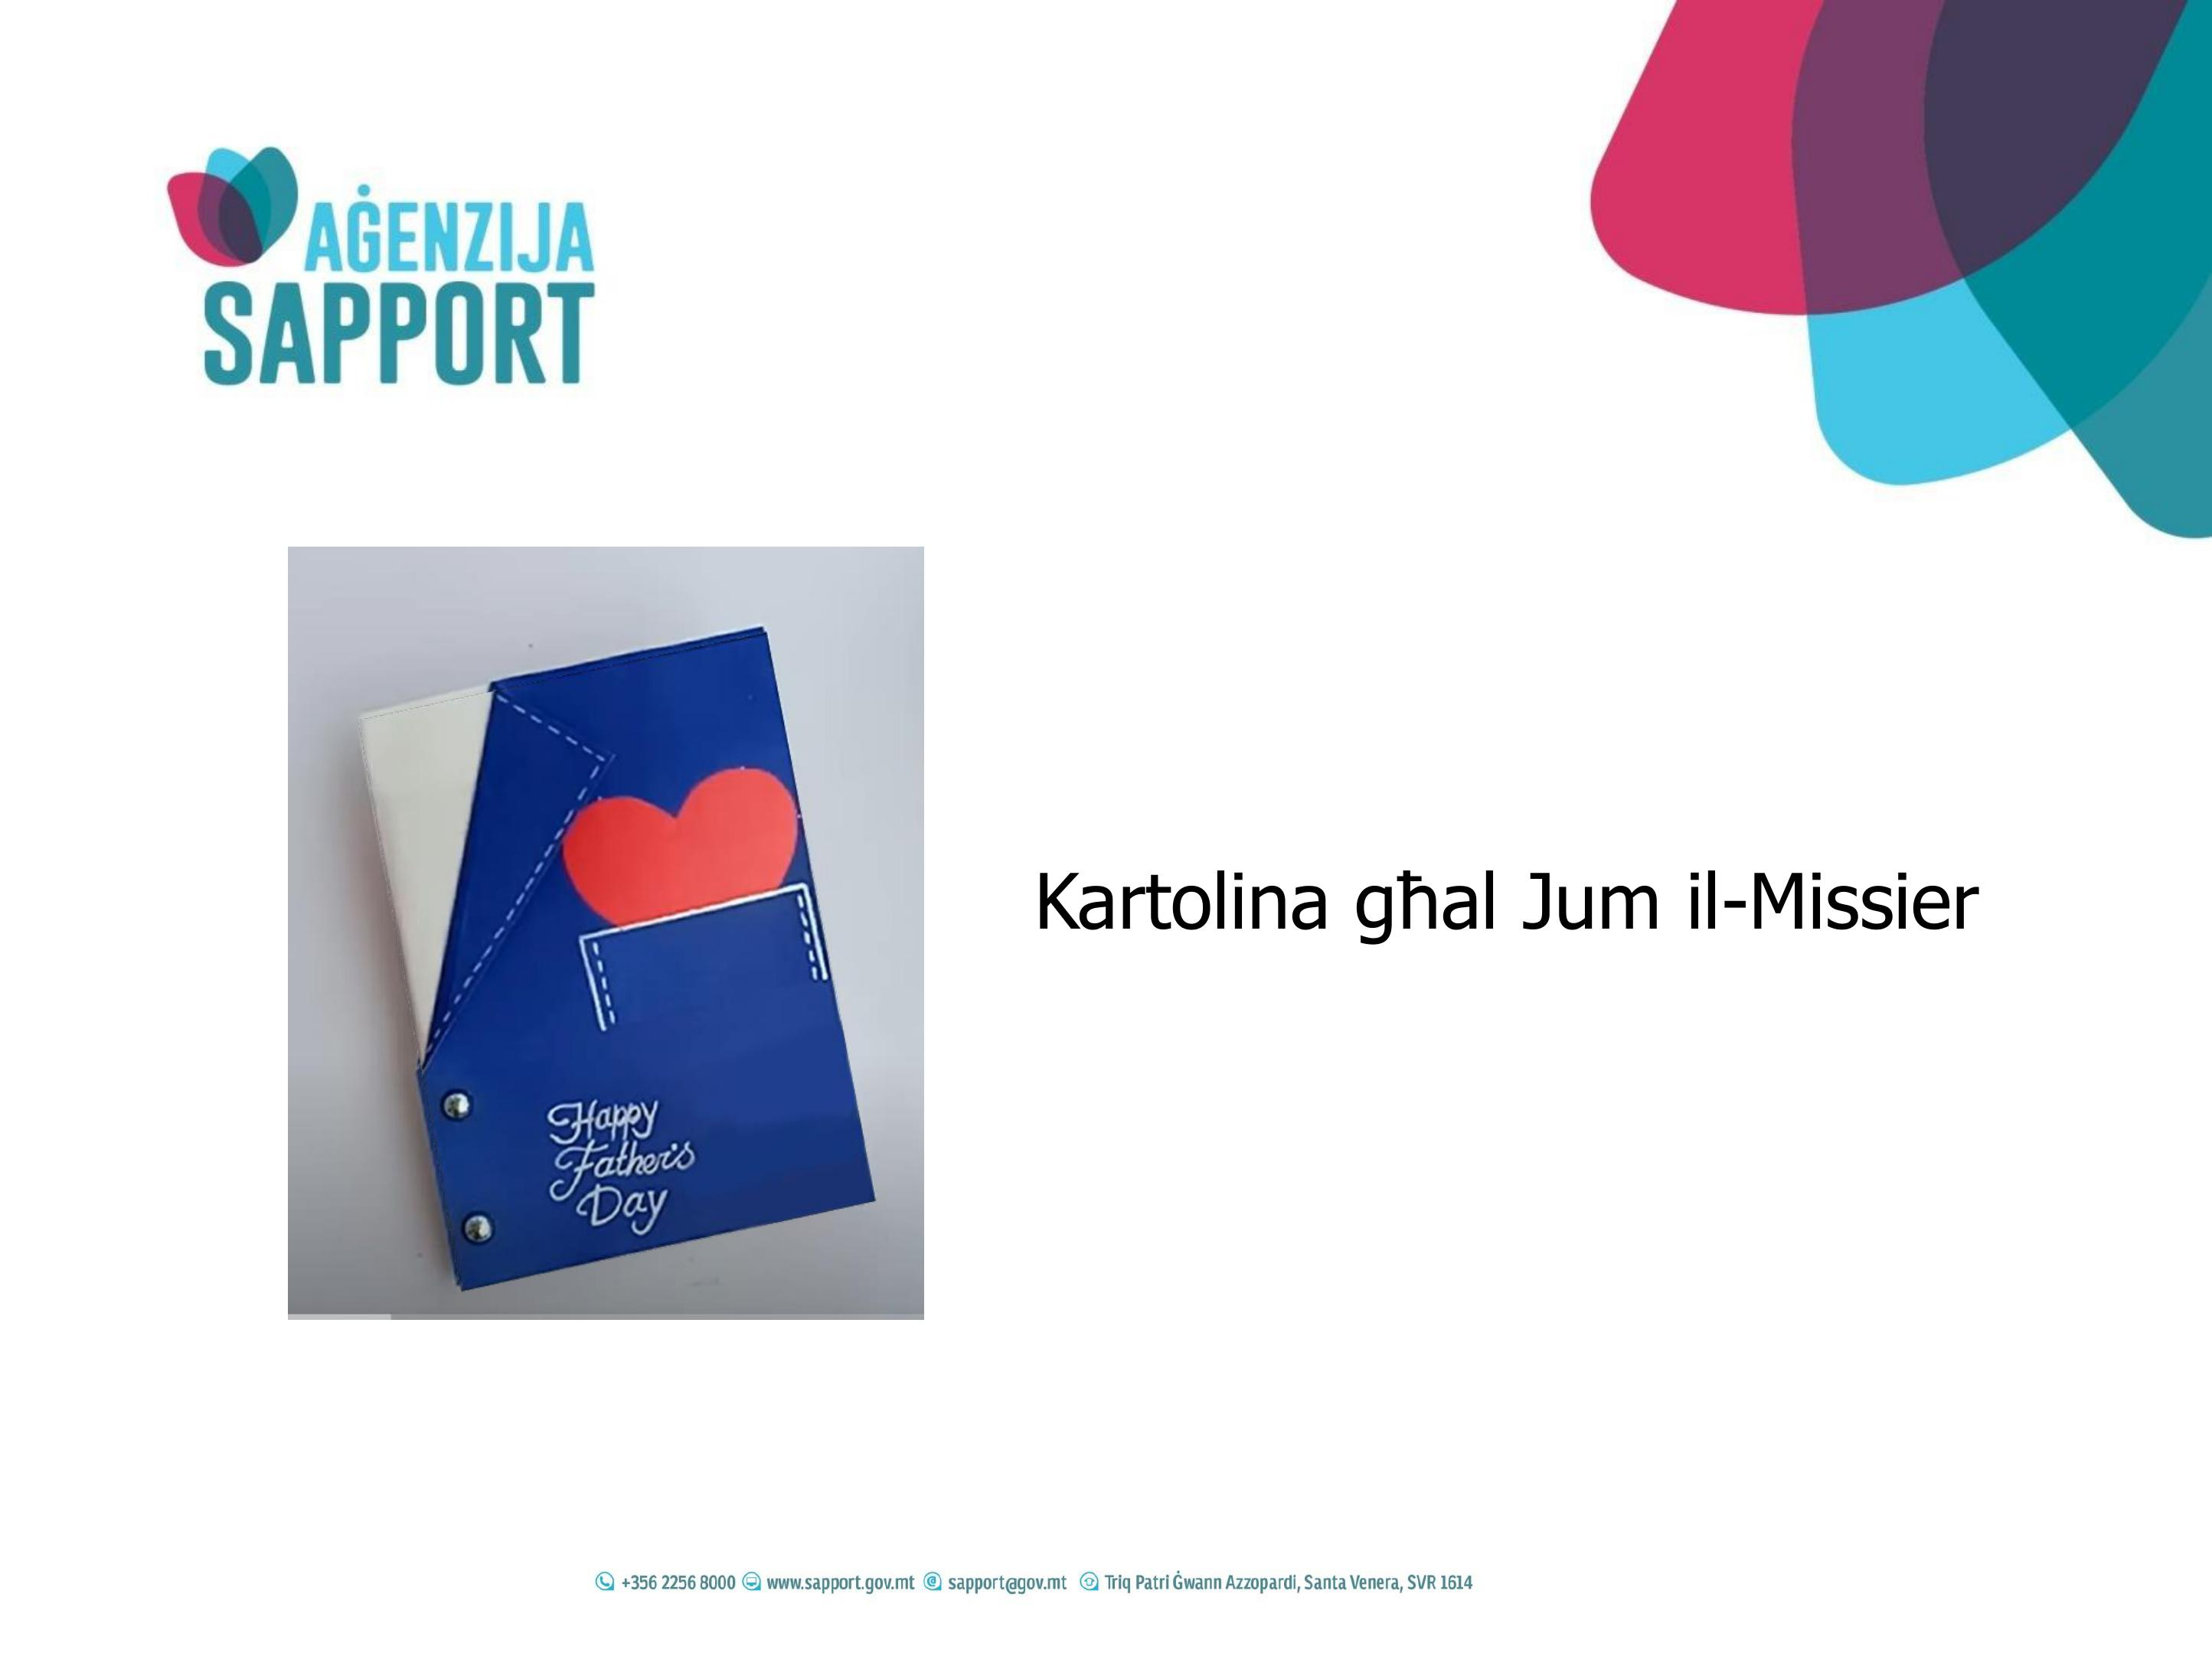text: (997, 819, 2008, 978)
